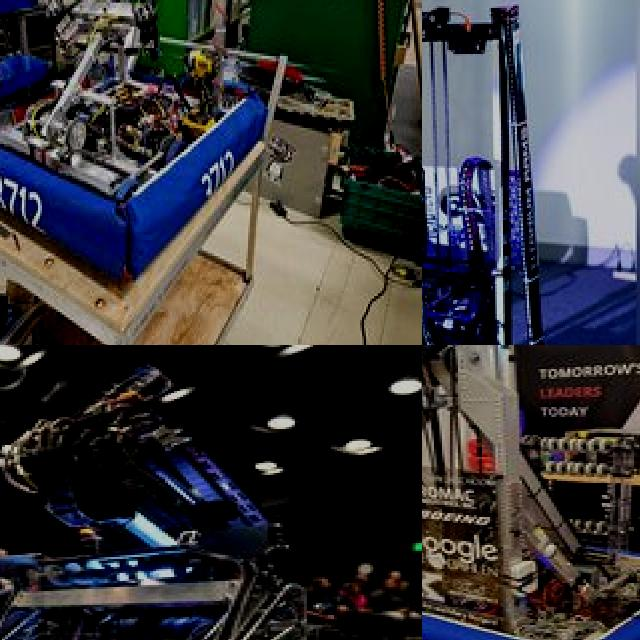FRC-Robots: (0, 353, 422, 640), (0, 0, 282, 283), (422, 345, 640, 640), (422, 0, 606, 345)
